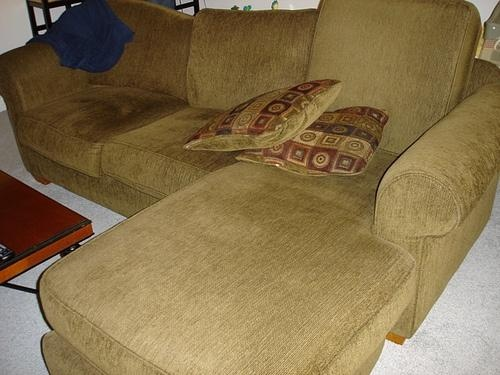sofa: (2, 1, 500, 346)
